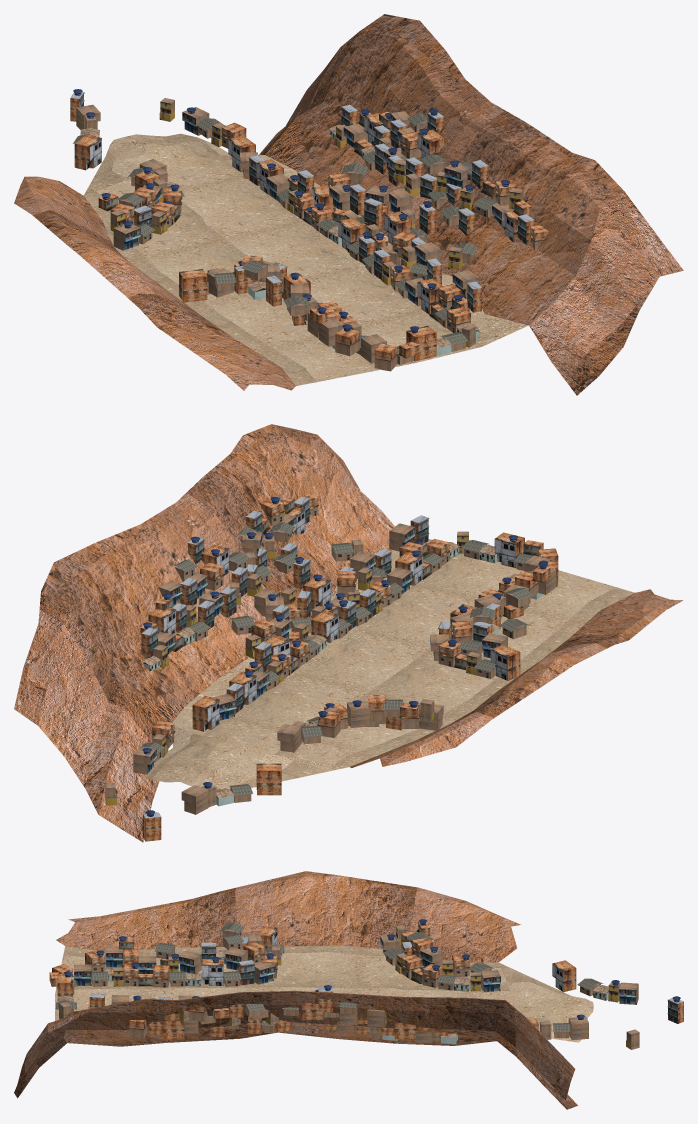
The model's file is mapaFAVELA.gltf.
The picture shows the model from 3 angles, top to bottom: view 1: azimuth 30°, elevation 25°; view 2: azimuth 150°, elevation 25°; view 3: azimuth 270°, elevation 25°; orthographic projection. The views are drawn at different scales.
Parts seen in each view (by area): view 1: Plane, Cube.086, Cube.173, Cube.050, Cube.034, Cube.044, Cube.067, Cube.064, Cube.007; view 2: Plane, Cube.086, Cube.127, Cube.173, Cube.050, Cube.034, Cube.171, Cube.092; view 3: Plane, Cube.173, Cube.018, Cube.076, Cube.157, Cube.171, Cube.176, Cube.060, Cube.022, Cube.069, Cube.078, Cube.021 (+4 smaller).
Part boxes in pixels (bbox=[...]): Plane: bbox=[14, 14, 683, 395]; Cube.086: bbox=[179, 269, 207, 302]; Cube.173: bbox=[74, 134, 101, 170]; Cube.050: bbox=[406, 326, 436, 361]; Cube.034: bbox=[338, 217, 365, 252]; Cube.044: bbox=[113, 224, 140, 250]; Cube.067: bbox=[335, 329, 359, 356]; Cube.064: bbox=[374, 343, 397, 371]; Cube.007: bbox=[417, 278, 442, 314]; Plane: bbox=[14, 424, 682, 842]; Cube.086: bbox=[490, 644, 520, 680]; Cube.127: bbox=[192, 696, 219, 731]; Cube.173: bbox=[256, 763, 281, 795]; Cube.050: bbox=[494, 532, 524, 567]; Cube.034: bbox=[311, 610, 338, 642]; Cube.171: bbox=[181, 785, 208, 814]; Cube.092: bbox=[303, 578, 330, 611]; Plane: bbox=[14, 871, 593, 1109]; Cube.173: bbox=[552, 960, 576, 992]; Cube.018: bbox=[202, 959, 223, 985]; Cube.076: bbox=[178, 950, 201, 973]; Cube.157: bbox=[162, 1018, 184, 1039]; Cube.171: bbox=[619, 982, 638, 1004]; Cube.176: bbox=[568, 1016, 588, 1040]; Cube.060: bbox=[480, 970, 500, 992]; Cube.022: bbox=[254, 962, 274, 984]; Cube.069: bbox=[105, 946, 123, 967]; Cube.078: bbox=[225, 948, 247, 970]; Cube.021: bbox=[238, 960, 254, 985].
Size of the model in its own units: 12.23 by 5.29 by 18.4.
Materials: 33 (33 with a texture image).
